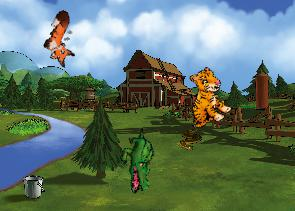crocodile: (111, 127, 166, 195)
fox: (36, 8, 89, 69)
tiger: (172, 64, 238, 133)
